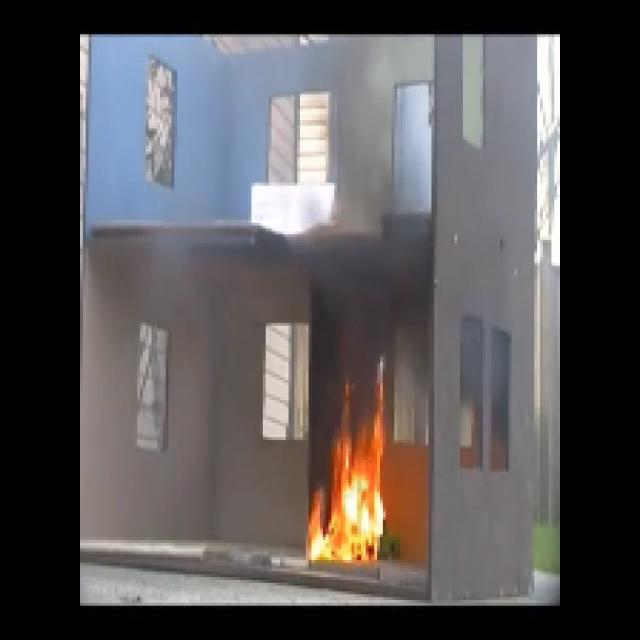fire: (305, 420, 389, 570)
